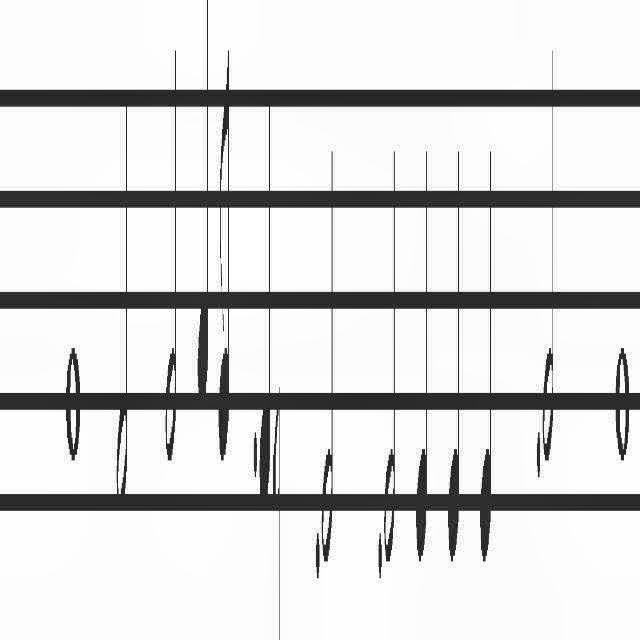Bemol: (273, 399, 286, 640)
Eighth-note: (216, 34, 236, 502)
Full-note: (614, 308, 630, 482), (65, 333, 81, 487)
Half-note: (112, 34, 132, 546), (160, 34, 180, 502), (541, 42, 559, 478), (320, 119, 336, 597), (384, 129, 401, 577)
Quarter-note: (446, 140, 466, 572), (414, 79, 430, 587), (193, 0, 210, 448), (478, 121, 494, 586), (260, 89, 272, 537)
